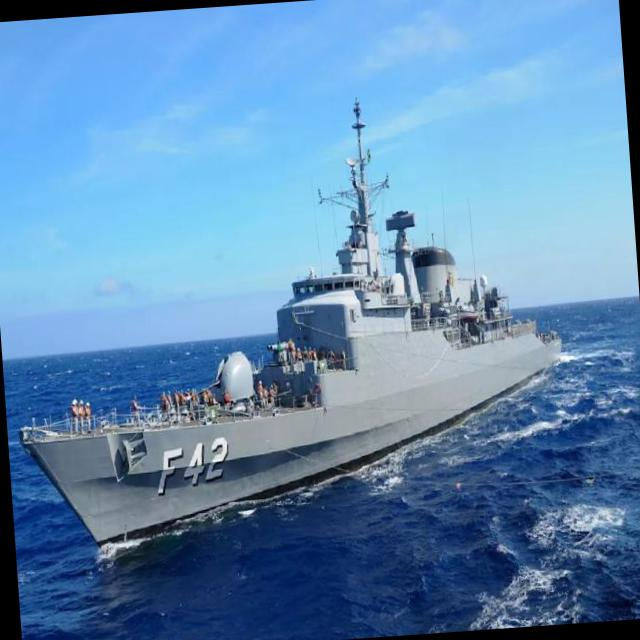Military: (19, 99, 560, 544)
